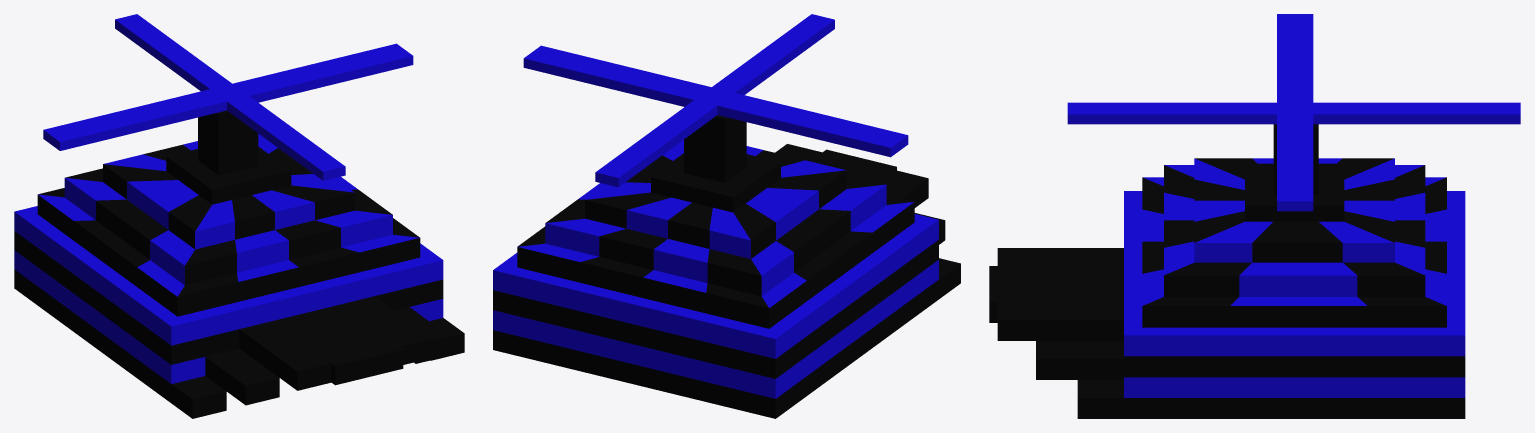
Rendered from h_helicopter_cap.fbx.
The picture shows the model from 3 angles, left to right: view 1: azimuth 30°, elevation 25°; view 2: azimuth 150°, elevation 25°; view 3: azimuth 270°, elevation 25°; orthographic projection. The views are drawn at different scales.
Visible parts, largest first — view 1: rotator; view 2: rotator; view 3: rotator.
Part boxes in pixels (x1,y1,x2,y2): rotator: [14, 14, 464, 418]; rotator: [493, 14, 960, 418]; rotator: [989, 14, 1520, 418].
Size of the model in its own units: 65.15 by 38.72 by 77.98.
